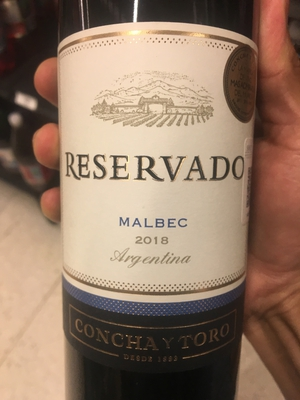reservado malbec: (45, 1, 257, 400)
